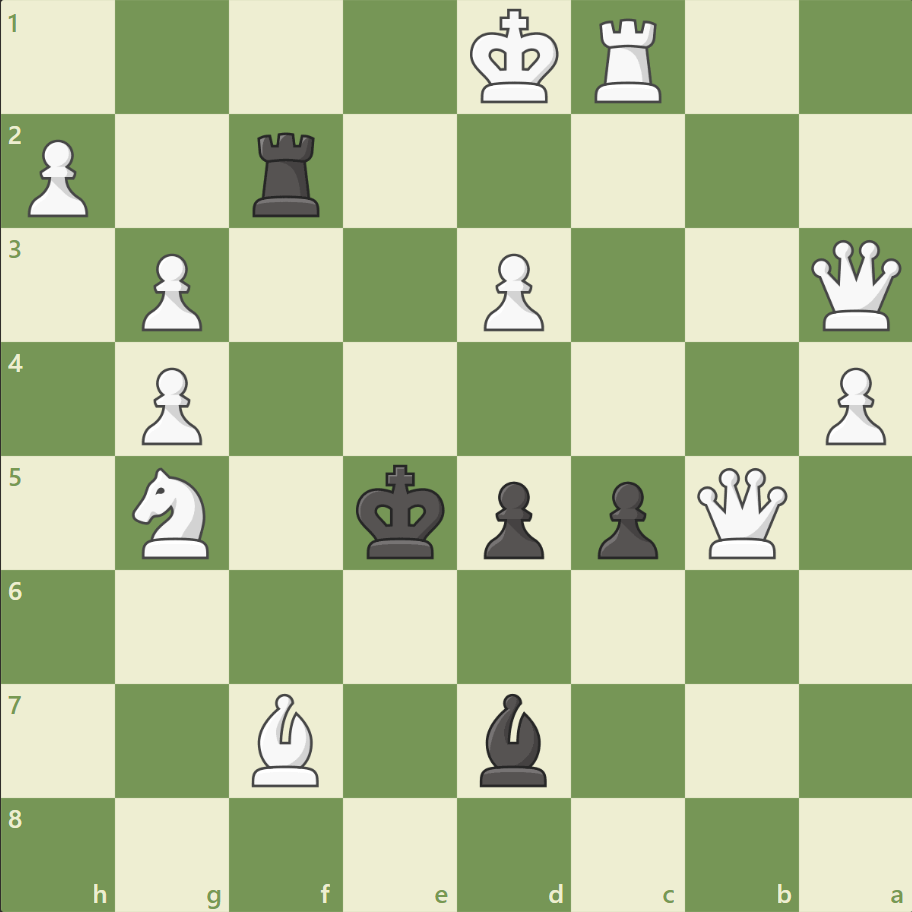B: (244, 687, 328, 790)
K: (465, 4, 565, 112)
N: (124, 461, 222, 564)
P: (133, 359, 208, 450), (474, 246, 549, 337), (133, 246, 208, 337), (20, 132, 95, 223), (815, 359, 889, 450)
Q: (691, 463, 790, 562), (805, 236, 904, 335)
R: (587, 12, 670, 109)
b: (471, 687, 555, 790)
k: (351, 458, 451, 566)
p: (474, 473, 549, 564), (588, 473, 662, 564)
r: (246, 125, 329, 222)
